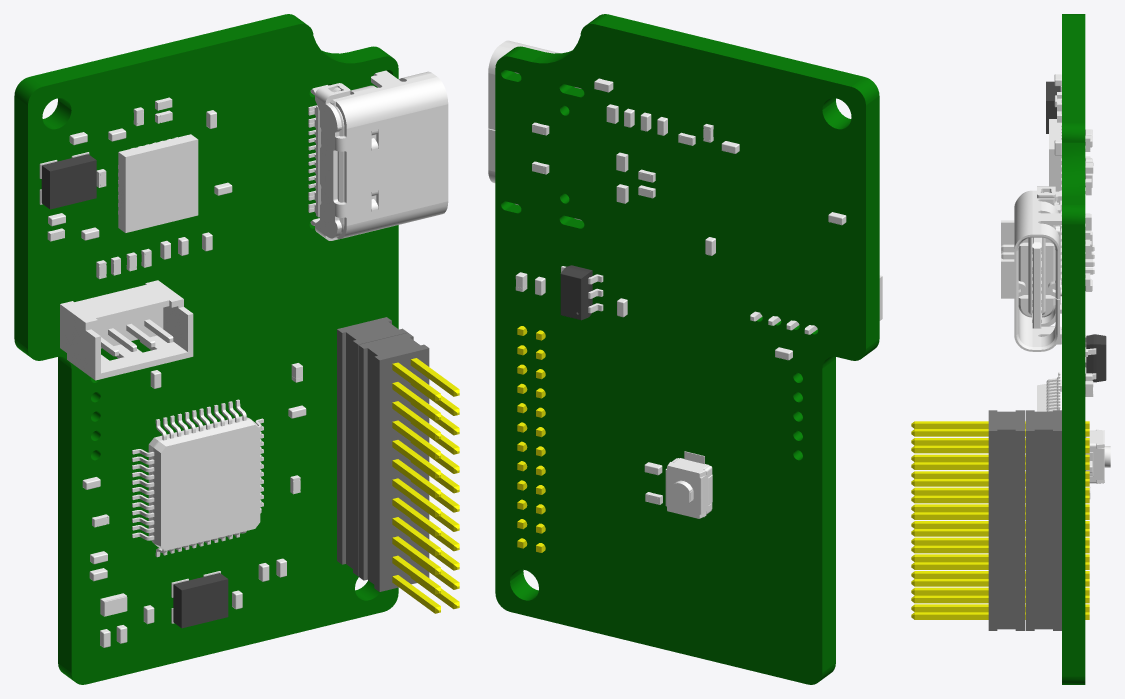
The model's file is schematic.gltf.
The picture shows the model from 3 angles, left to right: view 1: azimuth 30°, elevation 25°; view 2: azimuth 150°, elevation 25°; view 3: azimuth 270°, elevation 25°; orthographic projection. The views are drawn at different scales.
Visible parts, largest first — view 1: Open CASCADE STEP translator 6.8 1.1.1, J1, U2, FW-12-02-G-D-200-210_top_body, FW-12-02-G-D-200-210_pins1, JST_-_GH_-_Thru_(V)_-_4Pin_-_1.25mm_(1), U1, FW-12-02-G-D-200-210_bottom_body, Body (×2); view 2: Open CASCADE STEP translator 6.8 1.1.1, SW1, FW-12-02-G-D-200-200_pins2, Body, J1; view 3: Open CASCADE STEP translator 6.8 1.1.1, FW-12-02-G-D-200-210_pins1, FW-12-02-G-D-200-210_top_body, FW-12-02-G-D-200-210_bottom_body, J1, Body (×2), JST_-_GH_-_Thru_(V)_-_4Pin_-_1.25mm_(1), SW1, FW-12-02-G-D-200-200_pins2, U1, U2.
Boxes of the visible parts, x1,y1,x2,y2 form: Open CASCADE STEP translator 6.8 1.1.1: (14, 14, 398, 684); J1: (308, 70, 448, 240); U2: (132, 399, 263, 557); FW-12-02-G-D-200-210_top_body: (358, 333, 429, 591); FW-12-02-G-D-200-210_pins1: (392, 358, 459, 613); JST_-_GH_-_Thru_(V)_-_4Pin_-_1.25mm_(1): (60, 280, 193, 380); U1: (118, 134, 198, 232); FW-12-02-G-D-200-210_bottom_body: (337, 317, 407, 575); Body (×2): (41, 154, 228, 628); Open CASCADE STEP translator 6.8 1.1.1: (495, 14, 879, 684); SW1: (665, 451, 712, 518); FW-12-02-G-D-200-200_pins2: (517, 326, 545, 552); Body: (560, 265, 592, 320); J1: (488, 40, 581, 220); Open CASCADE STEP translator 6.8 1.1.1: (1062, 14, 1085, 684); FW-12-02-G-D-200-210_pins1: (911, 421, 1025, 619); FW-12-02-G-D-200-210_top_body: (988, 410, 1024, 630); FW-12-02-G-D-200-210_bottom_body: (1025, 410, 1061, 630); J1: (1014, 186, 1061, 351); Body (×2): (1046, 81, 1106, 382); JST_-_GH_-_Thru_(V)_-_4Pin_-_1.25mm_(1): (1001, 220, 1094, 298); SW1: (1085, 429, 1110, 483); FW-12-02-G-D-200-200_pins2: (1085, 421, 1089, 619); U1: (1049, 119, 1061, 204); U2: (1037, 372, 1060, 411).
Bounding box in the file's own units: 27.01 × 40 × 13.77.
